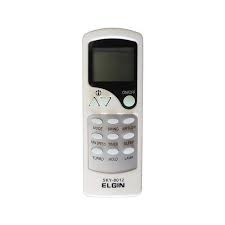remote control: (79, 32, 147, 194)
